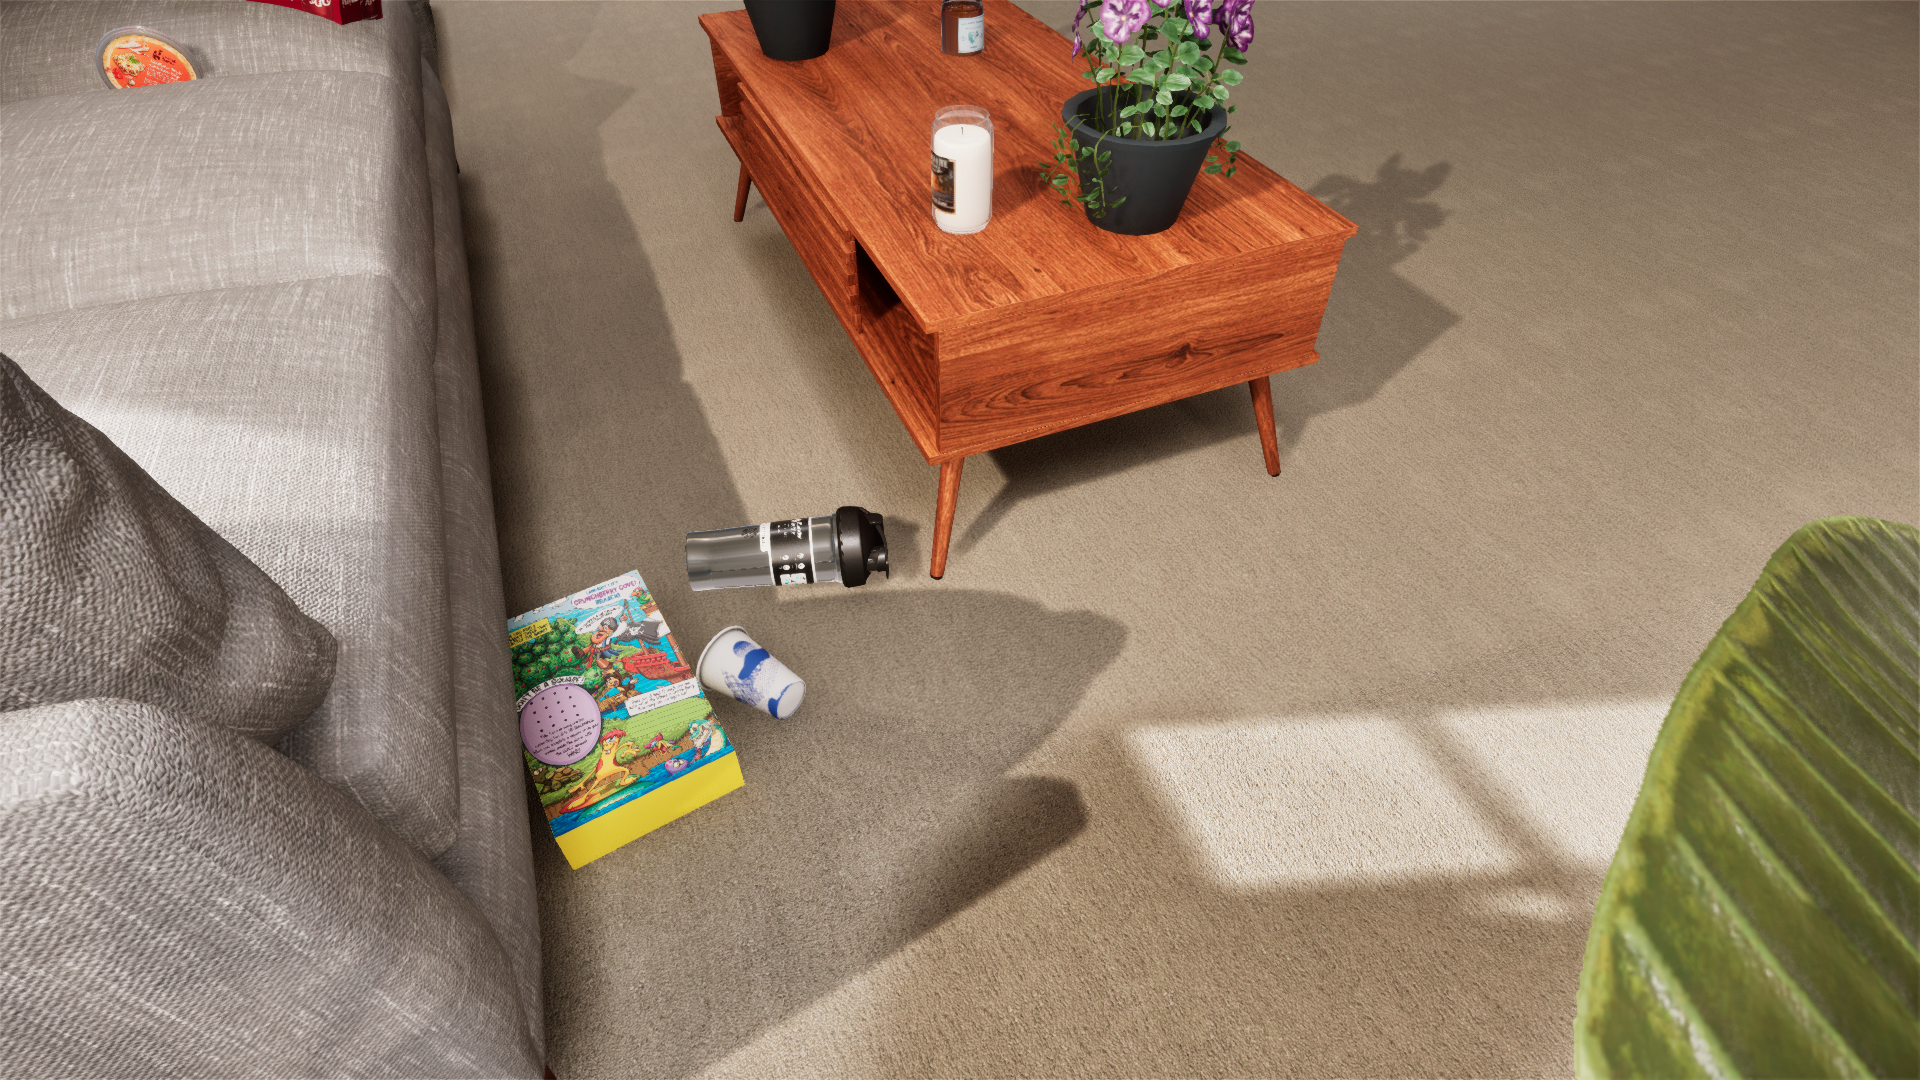cheerios: (1156, 566, 1399, 632)
soup: (1366, 554, 1444, 597)
